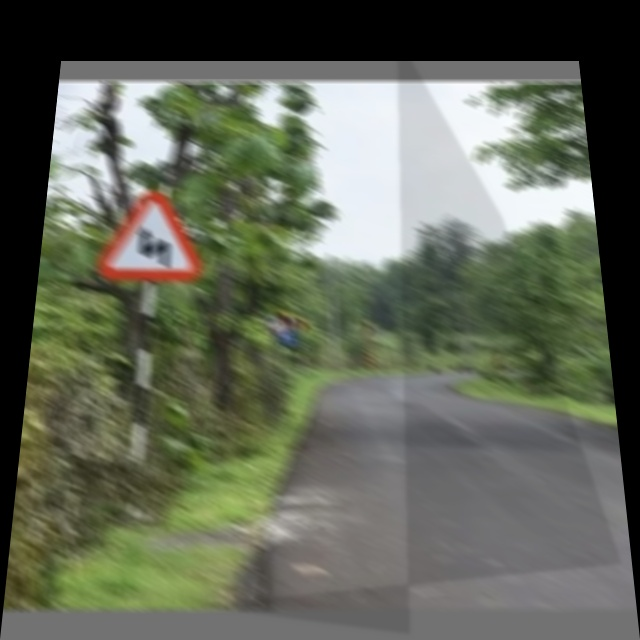Left_Reverse_Bend: (101, 192, 202, 282)
